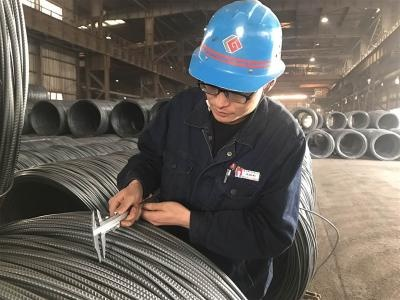blue: (189, 4, 286, 128)
